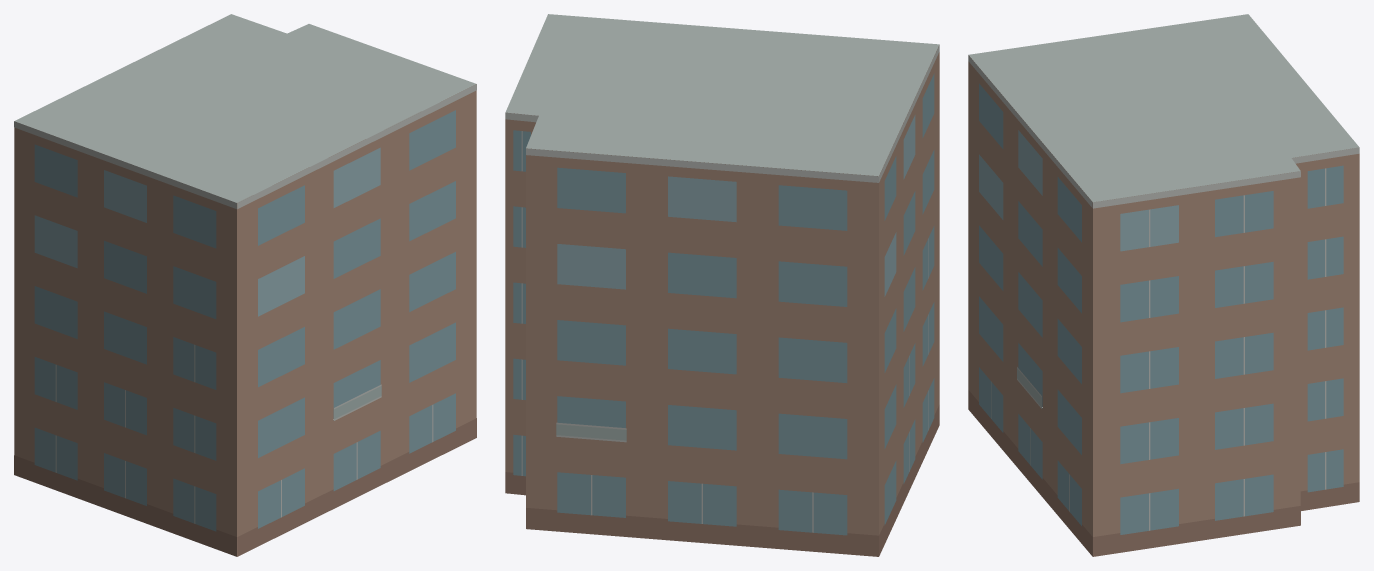
File: survey-upis-32749286.glb
3 renders of one model, left to right at view 1: azimuth 30°, elevation 25°; view 2: azimuth 150°, elevation 25°; view 3: azimuth 270°, elevation 25°, orthographic. The views are drawn at different scales.
Visible parts, largest first — view 1: survey-upis-32749286.tmp; view 2: survey-upis-32749286.tmp; view 3: survey-upis-32749286.tmp.
Part boxes in pixels (x1=…): survey-upis-32749286.tmp: x1=14, y1=14, x2=476, y2=556; survey-upis-32749286.tmp: x1=505, y1=14, x2=939, y2=556; survey-upis-32749286.tmp: x1=968, y1=14, x2=1359, y2=556.
Bounding box in the file's own units: 15.61 × 13.7 × 13.71.
